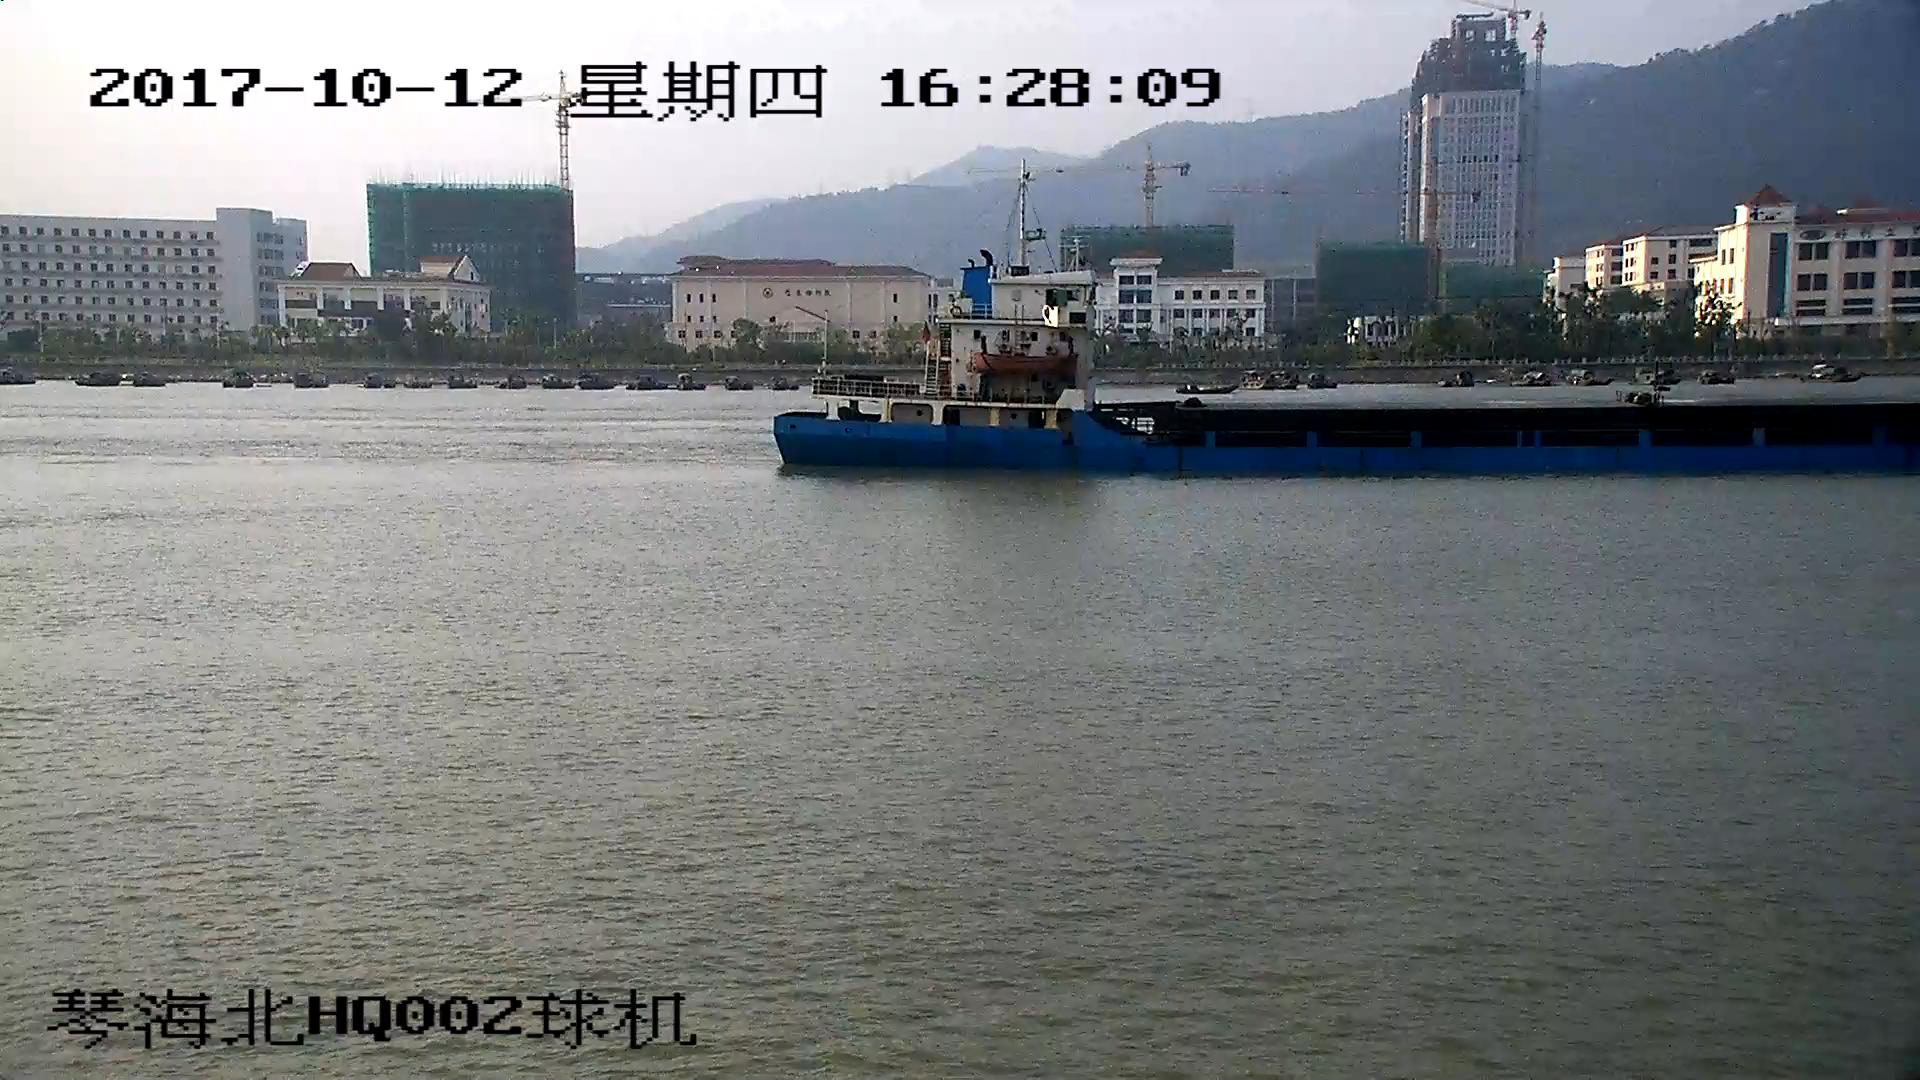general cargo ship: (772, 182, 1920, 480)
